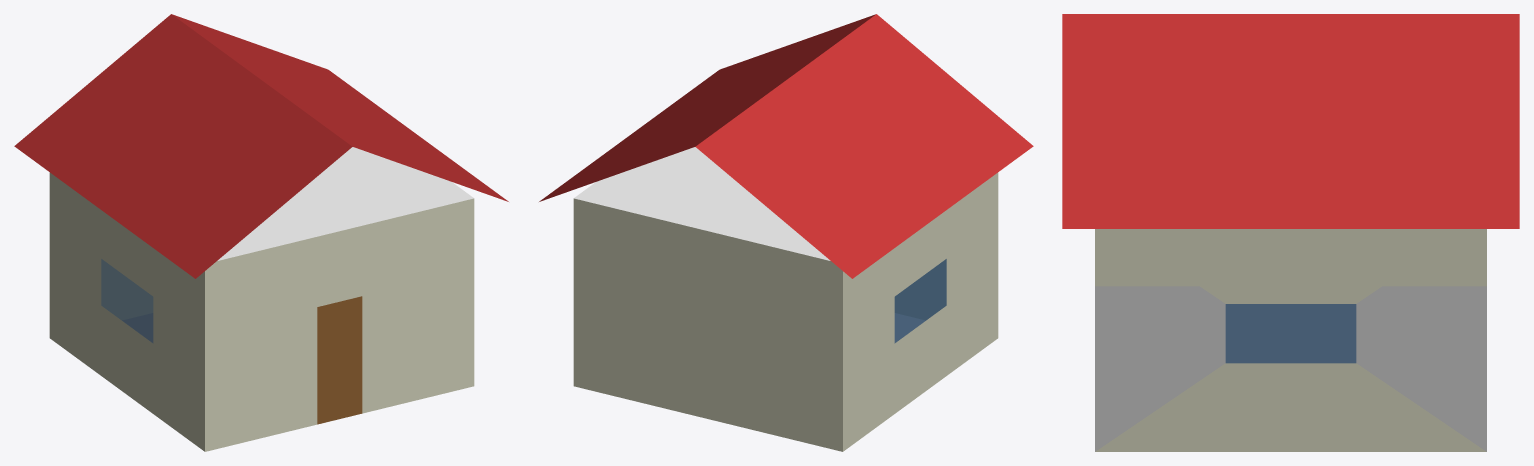
The model's file is simple_house.obj.
The picture shows the model from 3 angles, left to right: view 1: azimuth 30°, elevation 25°; view 2: azimuth 150°, elevation 25°; view 3: azimuth 270°, elevation 25°; orthographic projection. The views are drawn at different scales.
Bounding box in the file's own units: 7 × 6 × 7.
